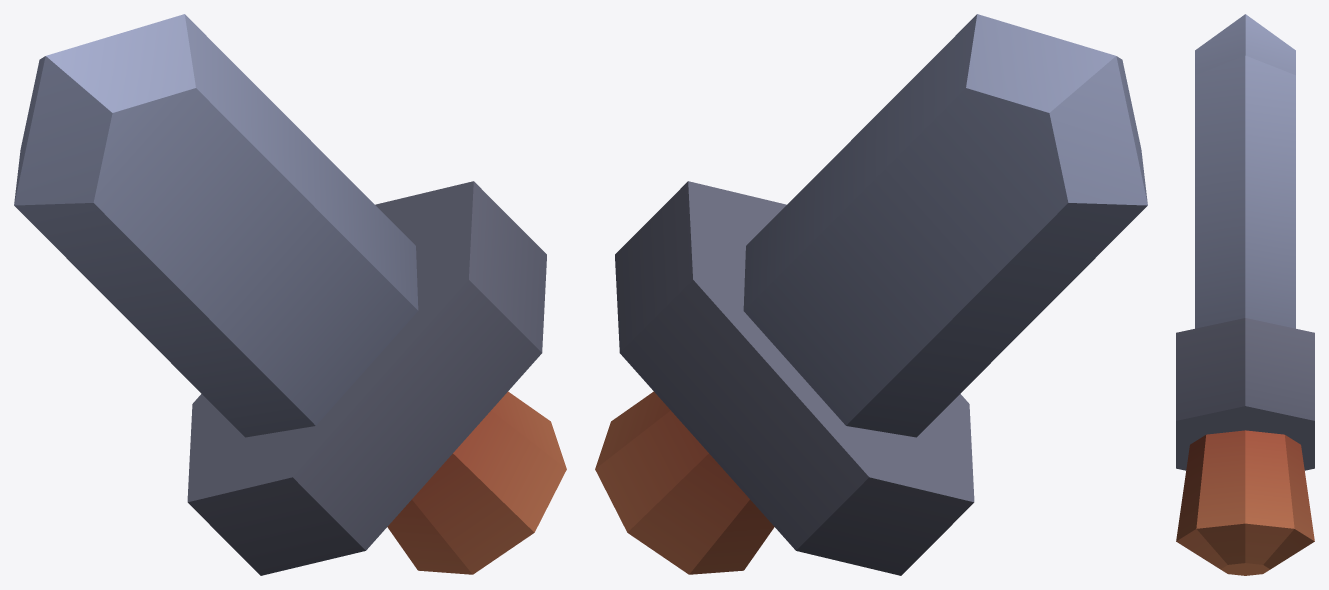
Rendered from weapon-sword.glb.
3 renders of one model, left to right at view 1: azimuth 30°, elevation 25°; view 2: azimuth 150°, elevation 25°; view 3: azimuth 270°, elevation 25°, orthographic. The views are drawn at different scales.
Parts seen in each view (by area): view 1: geometry_0; view 2: geometry_0; view 3: geometry_0.
Boxes of the visible parts, box(x1,y1,x2,y2) form: geometry_0: box(14, 14, 566, 575); geometry_0: box(595, 14, 1147, 575); geometry_0: box(1176, 14, 1314, 575).
Size of the model in its own units: 1.29 by 1.4 by 0.4156.
